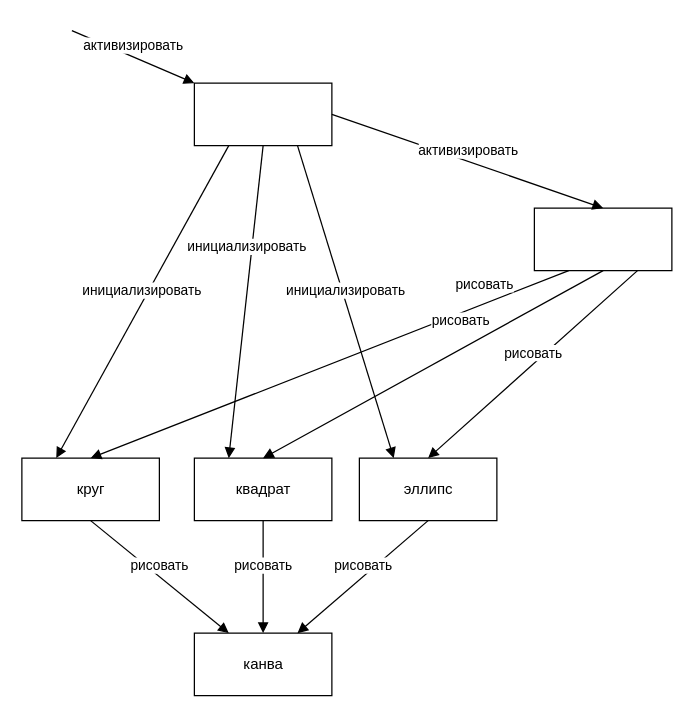
Image size: 694x718. Some labels were removed from this diagram. The shapes that lost their labels are listed below. From the top down, each one's centre as x and y in pixels, then its label:
the point at 262,114: Главная форма
the point at 602,239: таймер
